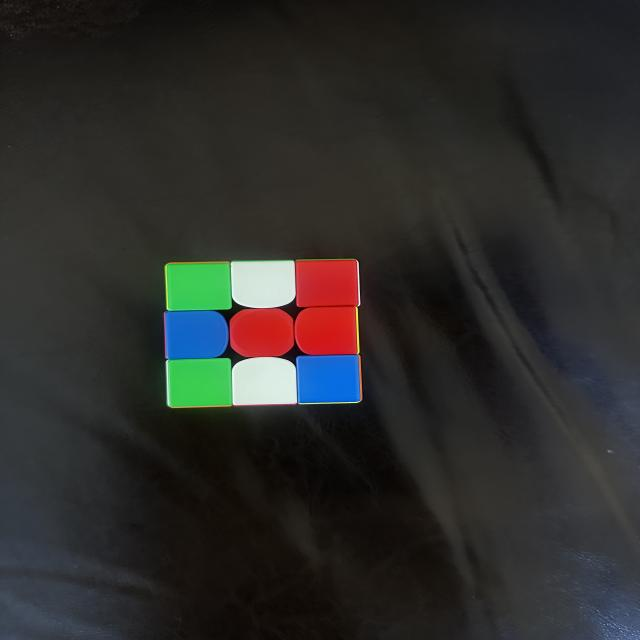sticker: (293, 305, 359, 358), (163, 310, 230, 362), (228, 260, 297, 310), (294, 258, 361, 309), (166, 358, 233, 409), (165, 262, 232, 313), (230, 356, 298, 406), (228, 308, 294, 359), (296, 355, 361, 405)
